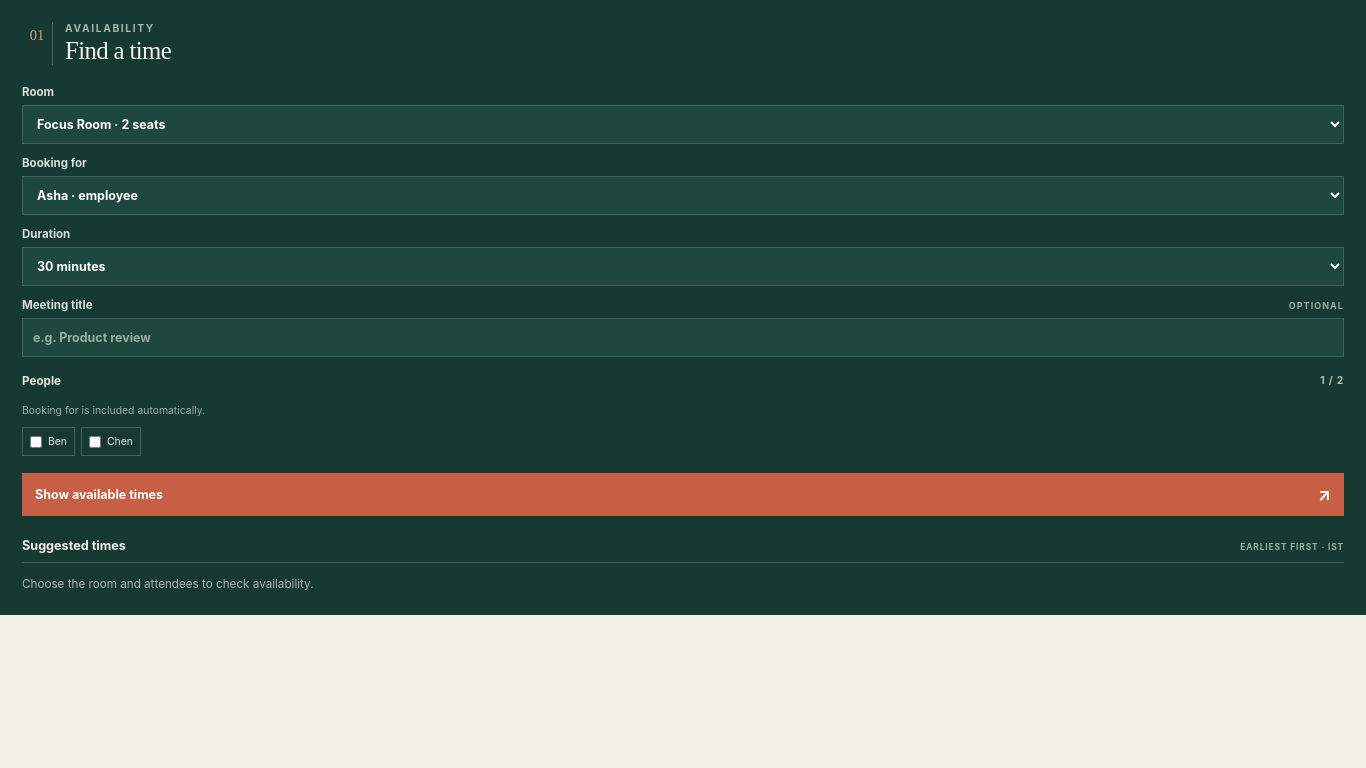
Scenario: slot finder › refreshes suggestions when the chosen slot has been taken
Click the button "Show available times ↗". click: (99,494)
box: [22,473,1344,516]
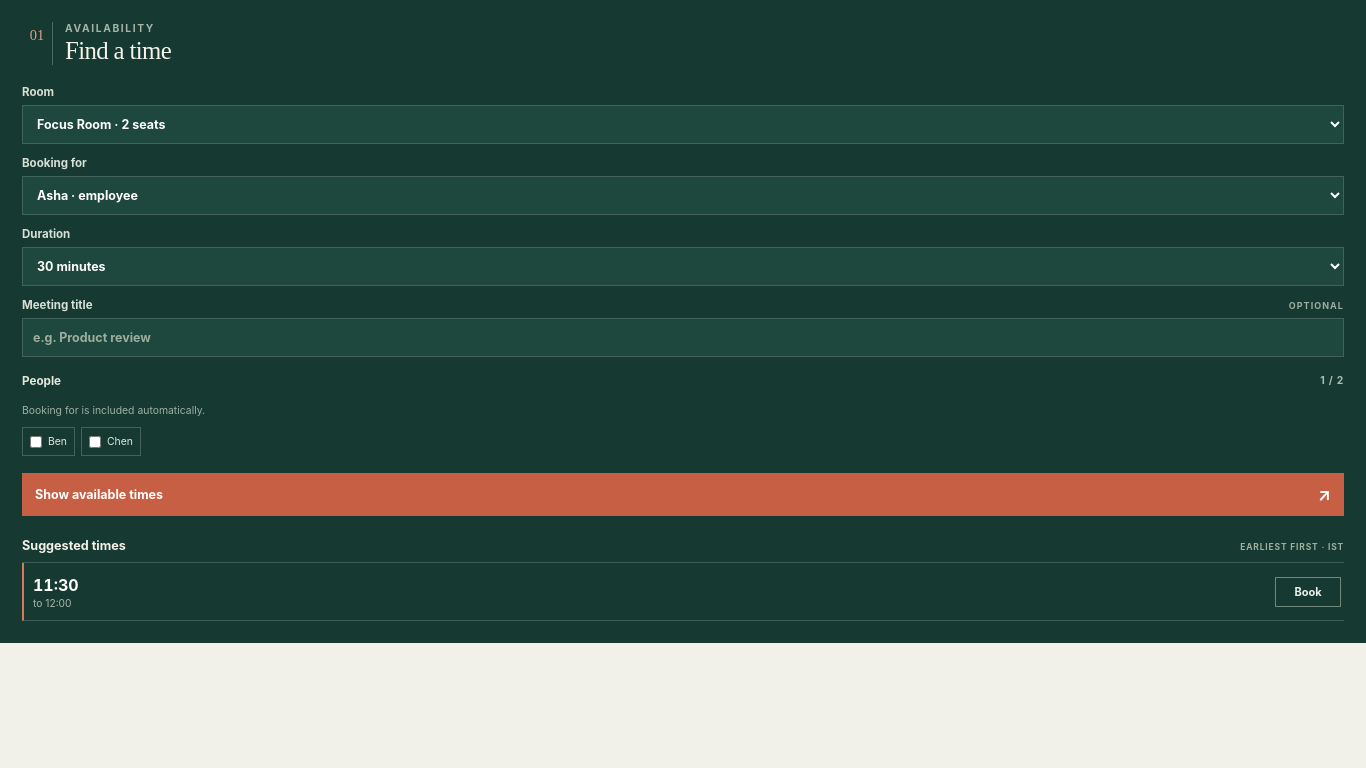
expect the button "Book" is shown: met
Click the button "Book". click: (1308,592)
box: [1275,576,1341,606]
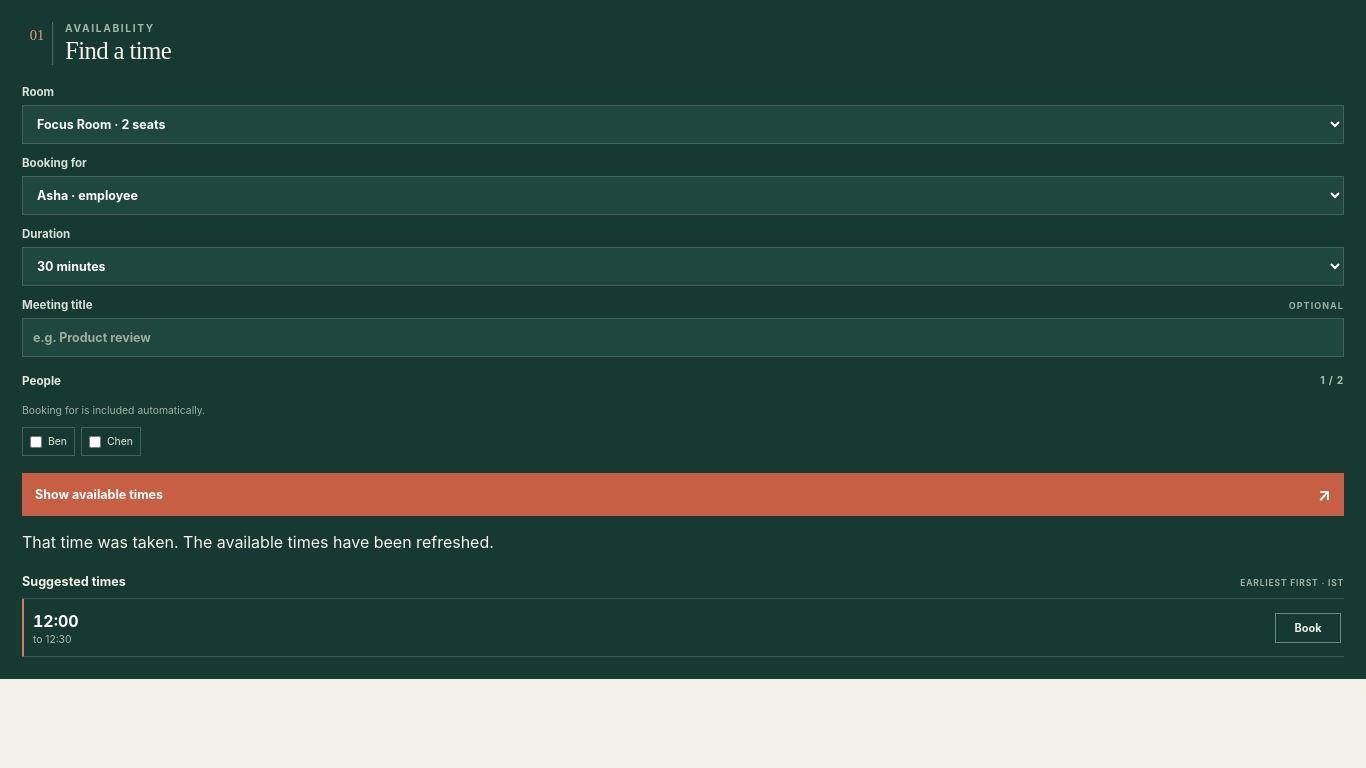
expect the text "That time was taken. The available times have been refreshed." is shown: met, box [22,532,494,552]
expect the text "12:00" is shown: met, box [33,610,79,630]
